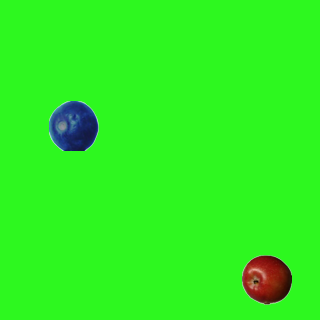Apple Braeburn: (241, 254, 291, 304)
Huckleberry: (48, 100, 98, 150)
